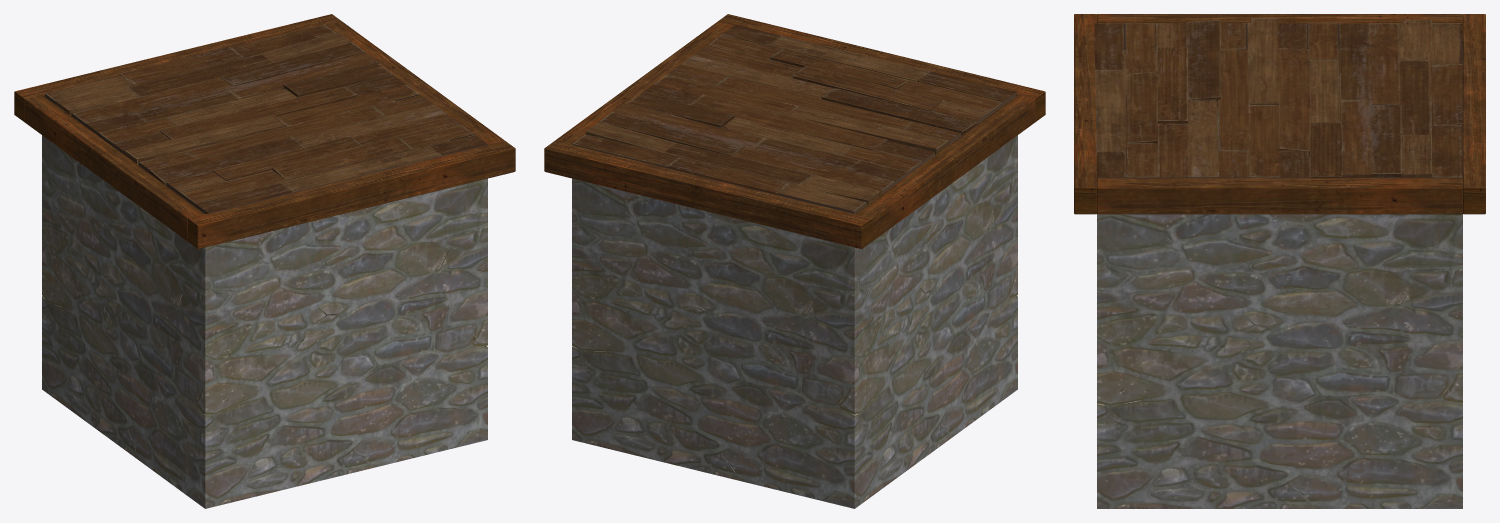
3 views of the same model, side by side, from view 1: azimuth 30°, elevation 25°; view 2: azimuth 150°, elevation 25°; view 3: azimuth 270°, elevation 25° (orthographic). The views are drawn at different scales.
Visible parts, largest first — view 1: SM_BB_T2_Foundation_Large_LOD0; view 2: SM_BB_T2_Foundation_Large_LOD0; view 3: SM_BB_T2_Foundation_Large_LOD0.
Part boxes in pixels (x1,y1,x2,y2): SM_BB_T2_Foundation_Large_LOD0: (14, 14, 515, 508); SM_BB_T2_Foundation_Large_LOD0: (544, 14, 1045, 508); SM_BB_T2_Foundation_Large_LOD0: (1074, 14, 1485, 508).
Bounding box in the file's own units: 3.38 × 3.04 × 3.38.
3 materials, 3 textured.
